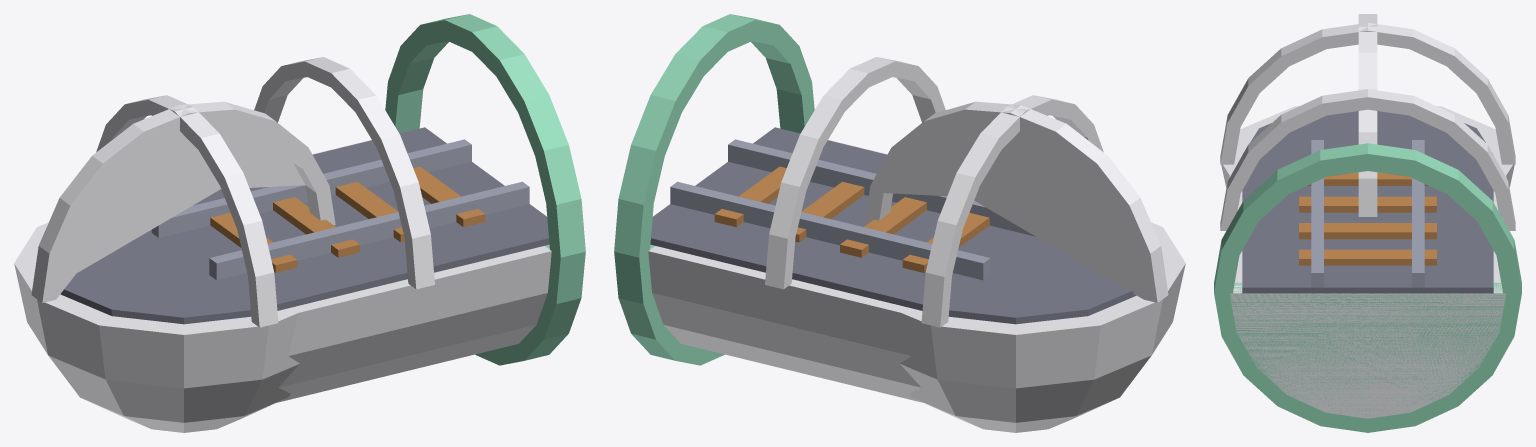
File: tunnel-1x1-end.glb
The picture shows the model from 3 angles, left to right: view 1: azimuth 30°, elevation 25°; view 2: azimuth 150°, elevation 25°; view 3: azimuth 270°, elevation 25°; orthographic projection. The views are drawn at different scales.
Parts seen in each view (by area): view 1: tunnel-1x1-end; view 2: tunnel-1x1-end; view 3: tunnel-1x1-end.
Part boxes in pixels (bbox=[...]): tunnel-1x1-end: bbox=[14, 14, 585, 432]; tunnel-1x1-end: bbox=[614, 14, 1185, 432]; tunnel-1x1-end: bbox=[1214, 14, 1521, 432].
Bounding box in the file's own units: 0.735 × 0.49 × 0.49.
Materials: 1 (1 with a texture image).
